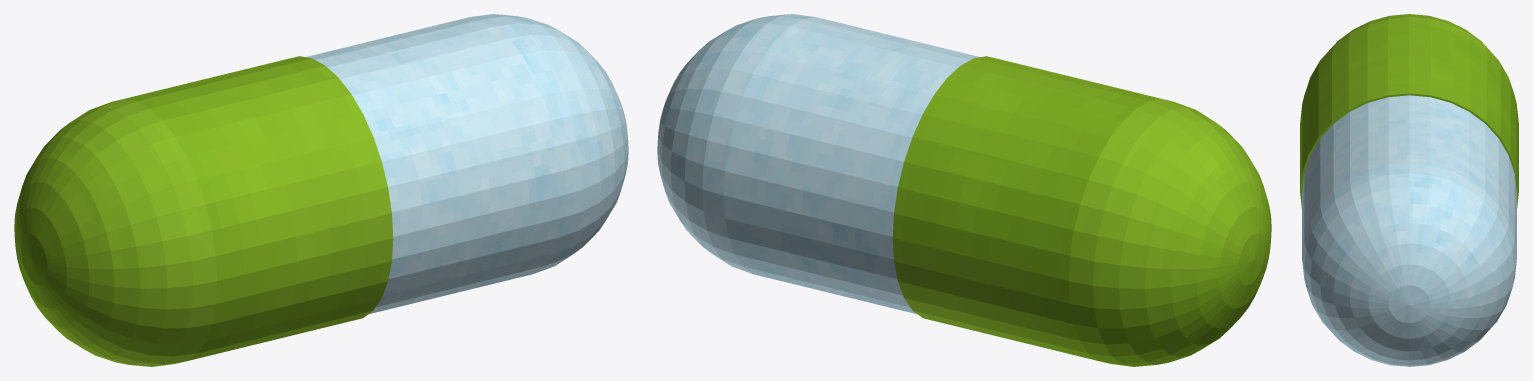
File: pill (1).glb
3 renders of one model, left to right at view 1: azimuth 30°, elevation 25°; view 2: azimuth 150°, elevation 25°; view 3: azimuth 270°, elevation 25°, orthographic. The views are drawn at different scales.
Parts seen in each view (by area): view 1: Sphere.001; view 2: Sphere.001; view 3: Sphere.001.
Part boxes in pixels (x1,y1,x2,y2): Sphere.001: [14, 14, 628, 366]; Sphere.001: [657, 14, 1271, 366]; Sphere.001: [1300, 14, 1518, 366].
Bounding box in the file's own units: 4.93 × 2 × 2.
Materials: 2 (2 with a texture image).
